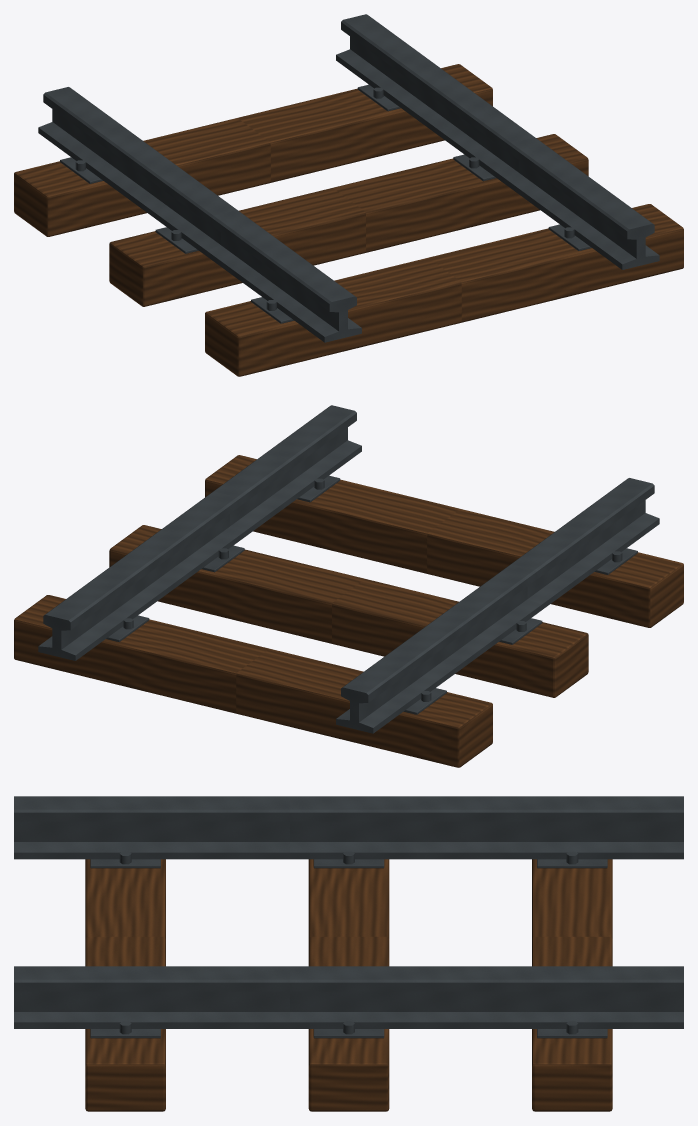
Rendered from Rail_Straight.fbx.
3 renders of one model, top to bottom at view 1: azimuth 30°, elevation 25°; view 2: azimuth 150°, elevation 25°; view 3: azimuth 270°, elevation 25°, orthographic. The views are drawn at different scales.
Visible parts, largest first — view 1: Ties, Rail_Right, Rail_Left, Fasteners; view 2: Ties, Rail_Right, Rail_Left, Fasteners; view 3: Ties, Rail_Left, Rail_Right, Fasteners.
Boxes of the visible parts, x1,y1,x2,y2 form: Ties: [14, 64, 683, 376]; Rail_Right: [336, 14, 659, 269]; Rail_Left: [38, 87, 361, 342]; Fasteners: [60, 84, 591, 323]; Ties: [14, 455, 683, 767]; Rail_Right: [38, 405, 361, 660]; Rail_Left: [336, 478, 659, 733]; Fasteners: [106, 475, 637, 714]; Ties: [85, 859, 612, 1111]; Rail_Left: [14, 796, 683, 859]; Rail_Right: [14, 966, 683, 1028]; Fasteners: [90, 851, 607, 1038].
Size of the model in its own units: 90 by 16 by 100.
Materials: 3 (3 with a texture image).
